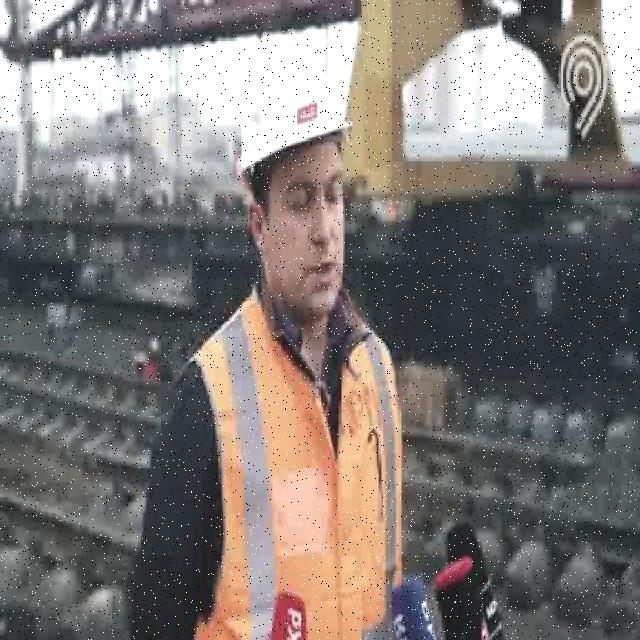Helmet: (233, 44, 356, 178)
Mask: (170, 280, 404, 638)
